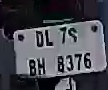3: (65, 53, 75, 73)
6: (81, 51, 94, 70)
7: (73, 52, 83, 72), (59, 26, 67, 45)
8: (56, 56, 65, 74)
B: (23, 56, 38, 79)
D: (34, 29, 45, 52)
H: (36, 58, 48, 78)
L: (42, 28, 56, 49)
S: (67, 27, 80, 45)
